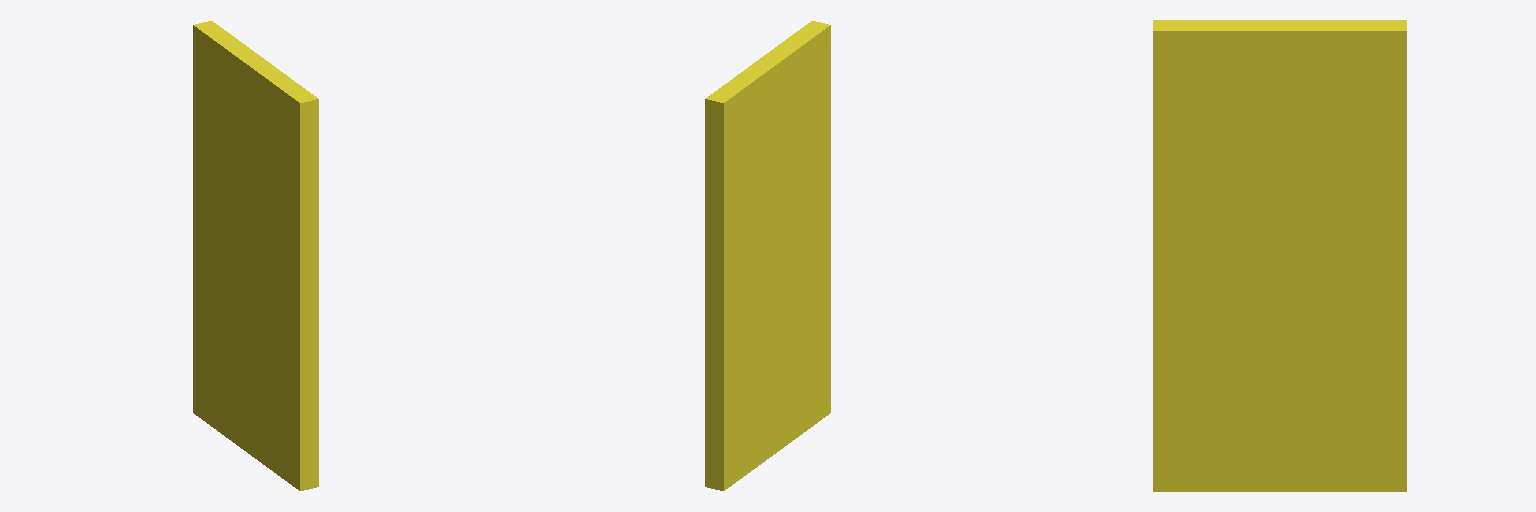
robot.urdf — track_box_skeleton:
<?xml version="1.0"?>
<robot name="track_box_skeleton">
    <link name="world" />
    <link name="dummy1">
      <inertial>
          <mass value="0.0"/>
      </inertial>
    </link>
    <link name="dummy2">
      <inertial>
          <mass value="0.0"/>
      </inertial>
    </link>


    <link name="track_box">
        <inertial>
            <mass value="100.0" />
            <origin xyz="0 0 0" rpy="0 0 0"/>
            <inertia ixx="1.0" ixy="0" ixz="0" iyy="1.0" iyz="0" izz="1.0" />
        </inertial>
        <visual>
            <origin xyz="0 0 0" rpy="0 0 0" />
            <geometry>
                <box size="0.02 0.2 0.4" />
            </geometry>
        </visual>
    </link>


    <joint name="jt1" type="revolute">
        <parent link="world"/>
        <child link="dummy1"/>
        <origin rpy="0 0 0" xyz="0 0 0.3"/>
        <axis xyz="0 0 1"/>
        <limit effort="2.8" lower="-6.28" upper="6.28" velocity="5.6548668"/>
    </joint>

    <joint name="jt2" type="revolute">
        <parent link="dummy1"/>
        <child link="dummy2"/>
        <origin rpy="0 0 0" xyz="0 0 0"/>
        <axis xyz="0 1 0"/>
        <limit effort="2.8" lower="-6.28" upper="6.28" velocity="5.6548668"/>
    </joint>

    <joint name="jt3" type="revolute">
        <parent link="dummy2"/>
        <child link="track_box"/>
        <origin rpy="0 0 0" xyz="0 0 0.0"/>
        <axis xyz="1 0 0"/>
        <limit effort="2.8" lower="-6.28" upper="6.28" velocity="5.6548668"/>
    </joint>

</robot>

--- Facts derived from the render (not from the file) ---
3 views of the same robot in one strip: view 1: azimuth 30°, elevation 25°; view 2: azimuth 150°, elevation 25°; view 3: azimuth 270°, elevation 25° (orthographic).
Model track_box_skeleton with 4 links and 3 joints (3 revolute), rooted at world, posed all joints at 0.
Visible links, largest first — view 1: track_box; view 2: track_box; view 3: track_box.
Link boxes in pixels (x1,y1,x2,y2): track_box: (193, 21, 318, 490); track_box: (705, 21, 830, 490); track_box: (1153, 20, 1406, 491).
Bounding box of the posed robot: 0.02 × 0.2 × 0.4 m (x, y, z).
Geometry: primitives only (box / cylinder / sphere), no mesh files.
